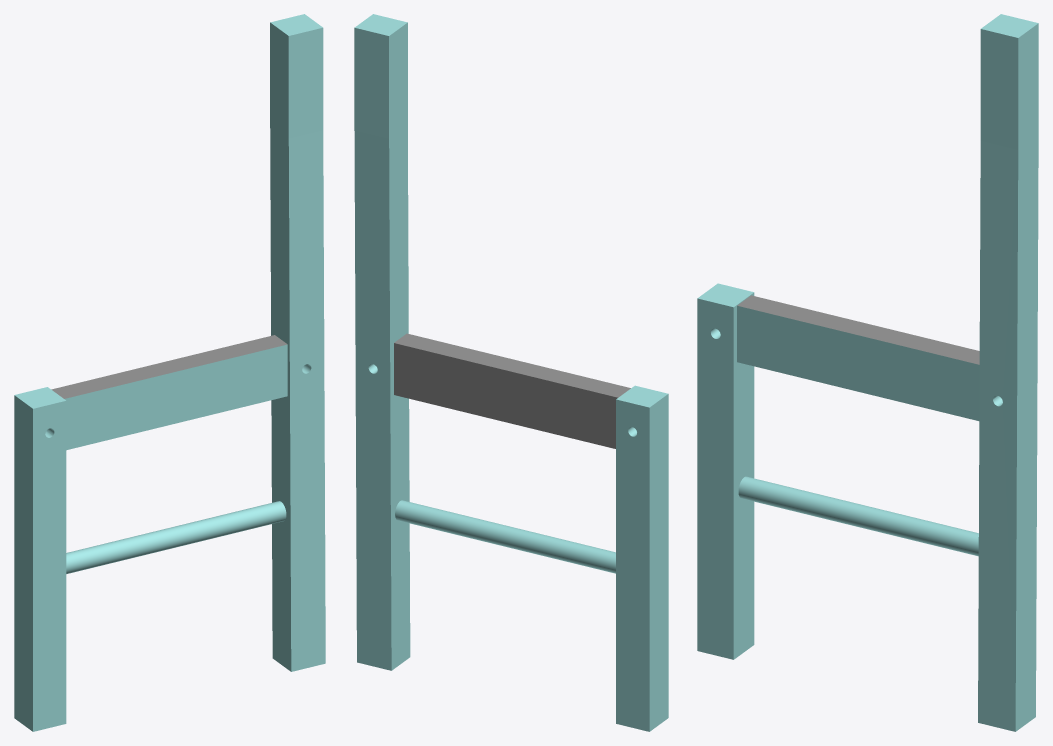
File: vansterSidaCol.obj
3 views of the same model, side by side, from view 1: azimuth 30°, elevation 25°; view 2: azimuth 150°, elevation 25°; view 3: azimuth 330°, elevation 25° (orthographic). The views are drawn at different scales.
Visible parts, largest first — view 1: sida; view 2: sida; view 3: sida.
Part boxes in pixels (bbox=[...]): sida: bbox=[14, 14, 325, 731]; sida: bbox=[354, 14, 668, 731]; sida: bbox=[697, 14, 1038, 731].
Size of the model in its own units: 260 by 539 by 32.53.
